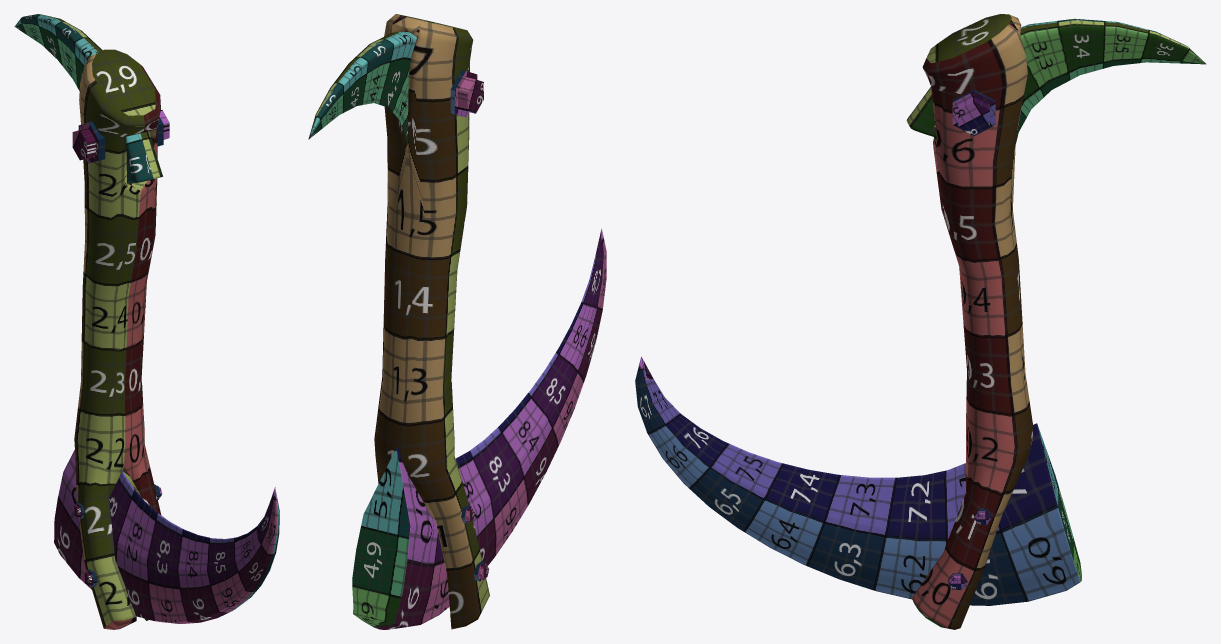
Rendered from scythe.fbx.
3 renders of one model, left to right at view 1: azimuth 30°, elevation 25°; view 2: azimuth 150°, elevation 25°; view 3: azimuth 270°, elevation 25°, orthographic. The views are drawn at different scales.
Parts seen in each view (by area): view 1: Cylinder, BigBlade, Blade, Cylinder.003; view 2: Cylinder, BigBlade, Blade, Cylinder.003; view 3: BigBlade, Cylinder, Blade, Cylinder.003.
Part boxes in pixels (left/top/right/bottom): Cylinder: left=74, top=49, right=161, bottom=629; BigBlade: left=54, top=450, right=279, bottom=623; Blade: left=14, top=14, right=162, bottom=182; Cylinder.003: left=72, top=110, right=169, bottom=163; Cylinder: left=374, top=14, right=489, bottom=629; BigBlade: left=352, top=228, right=606, bottom=629; Blade: left=308, top=32, right=416, bottom=151; Cylinder.003: left=450, top=70, right=483, bottom=117; BigBlade: left=635, top=356, right=1081, bottom=605; Cylinder: left=912, top=14, right=1033, bottom=629; Blade: left=906, top=18, right=1206, bottom=141; Cylinder.003: left=952, top=89, right=995, bottom=135.
Size of the model in its own units: 80.87 by 507 by 435.
